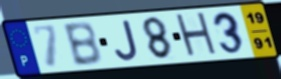3: (212, 9, 251, 56)
7: (31, 23, 60, 69)
8: (141, 15, 174, 61)
B: (61, 20, 104, 68)
H: (173, 11, 221, 61)
J: (113, 18, 140, 62)
